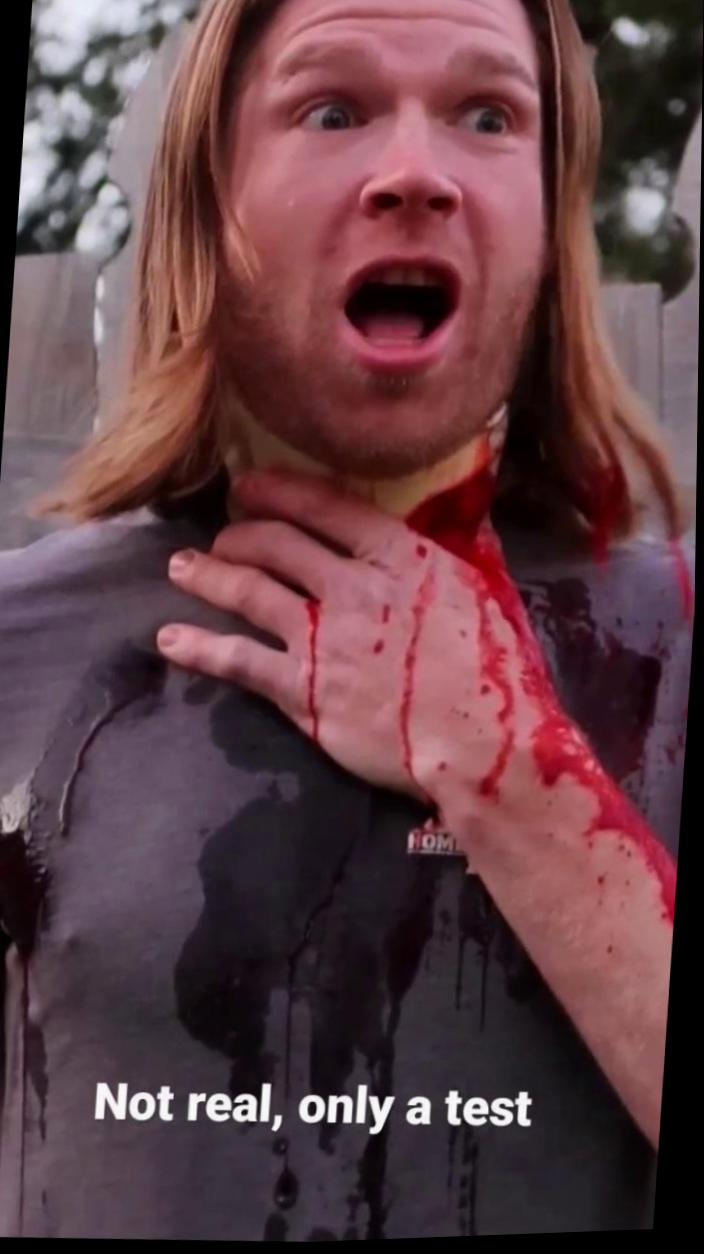Fire: (349, 439, 680, 932), (577, 466, 637, 566), (306, 600, 327, 752)
